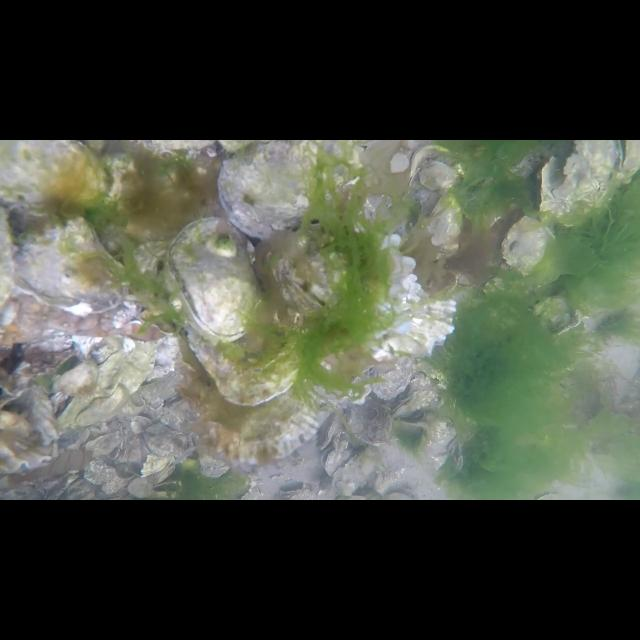Oyster-Closed: (269, 229, 456, 359), (186, 293, 308, 409), (193, 357, 319, 465), (12, 216, 136, 314), (57, 343, 157, 429), (0, 140, 112, 210), (540, 140, 616, 218), (407, 143, 465, 197), (502, 220, 550, 272), (330, 448, 382, 496), (348, 393, 394, 447), (426, 192, 464, 255), (0, 430, 52, 472), (371, 356, 413, 400), (197, 439, 230, 478), (320, 411, 342, 452)
Oyster-Open: (218, 140, 359, 240), (167, 219, 263, 343), (616, 140, 640, 182), (320, 447, 352, 475), (392, 390, 421, 420), (399, 411, 428, 427)
